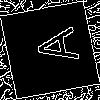A: (24, 25, 79, 68)
